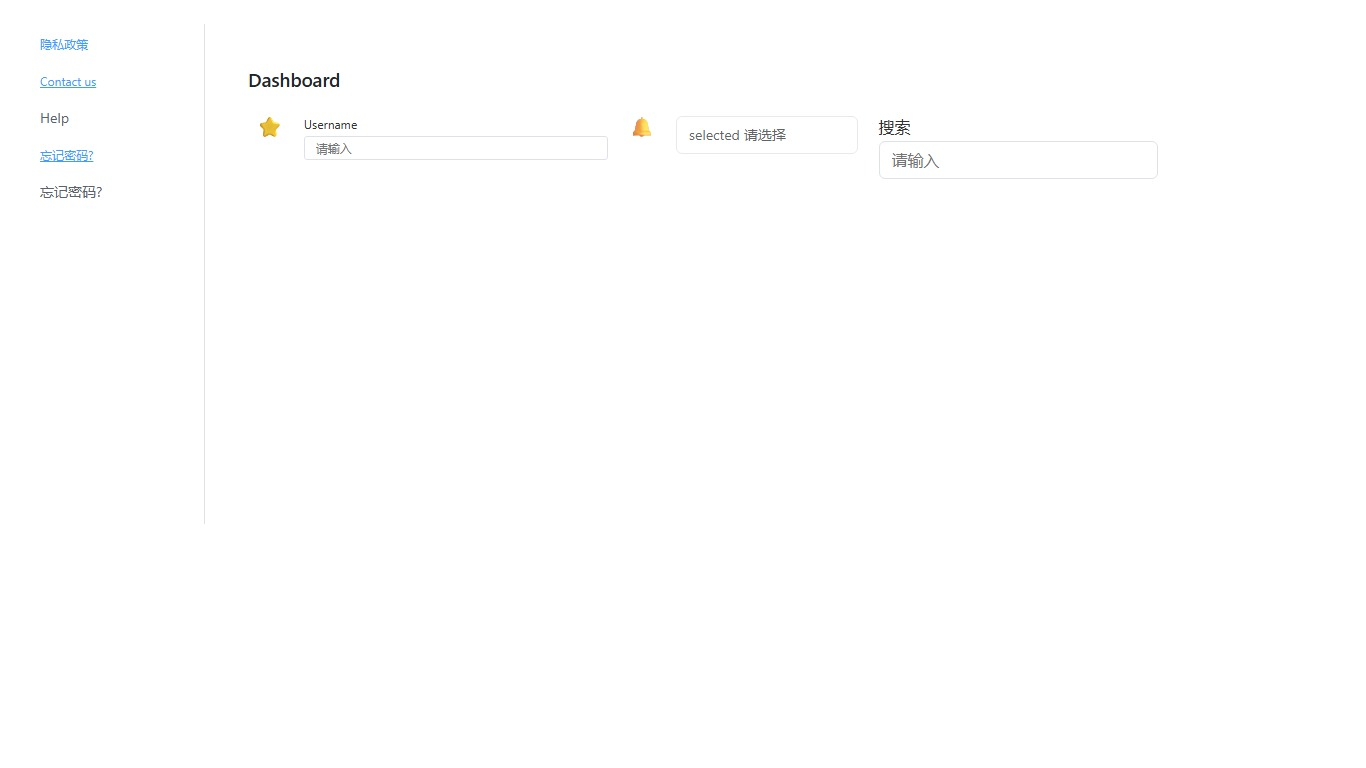icon: (628, 116, 656, 136), (256, 116, 283, 136)
input: (879, 141, 1158, 179), (304, 136, 608, 160)
link: (40, 182, 102, 201), (40, 73, 96, 89), (40, 147, 93, 163), (40, 36, 88, 52), (40, 108, 69, 127)
select: (676, 116, 858, 154)
